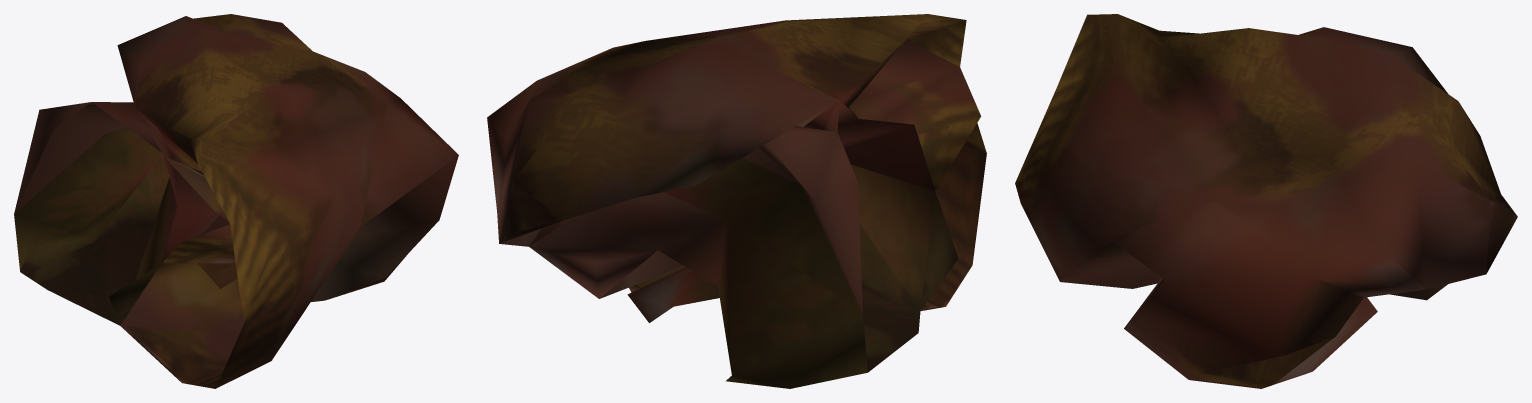
The model's file is MysteryLump.fbx.
3 renders of one model, left to right at view 1: azimuth 30°, elevation 25°; view 2: azimuth 150°, elevation 25°; view 3: azimuth 270°, elevation 25°, orthographic. The views are drawn at different scales.
Visible parts, largest first — view 1: mysterylump; view 2: mysterylump; view 3: mysterylump.
Boxes of the visible parts, <box> form: mysterylump: <box>14,14,458,388</box>; mysterylump: <box>487,14,986,388</box>; mysterylump: <box>1015,14,1517,388</box>.
Bounding box in the file's own units: 21.79 × 14.91 × 22.4.
